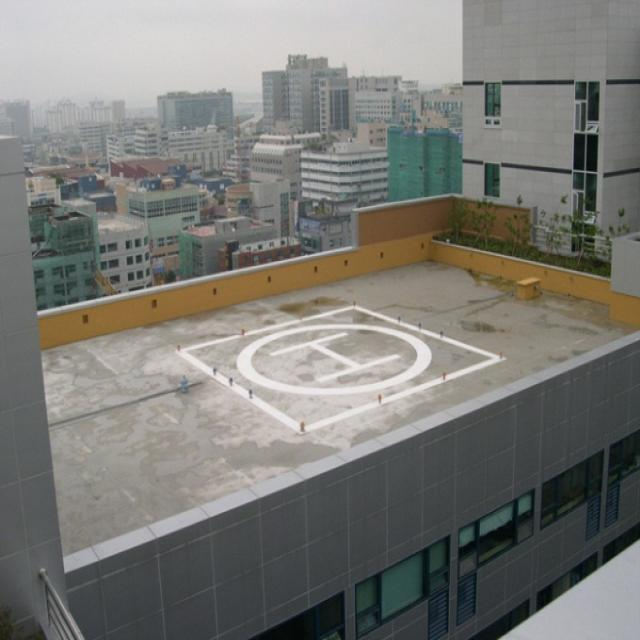helipad: (230, 314, 434, 399)
